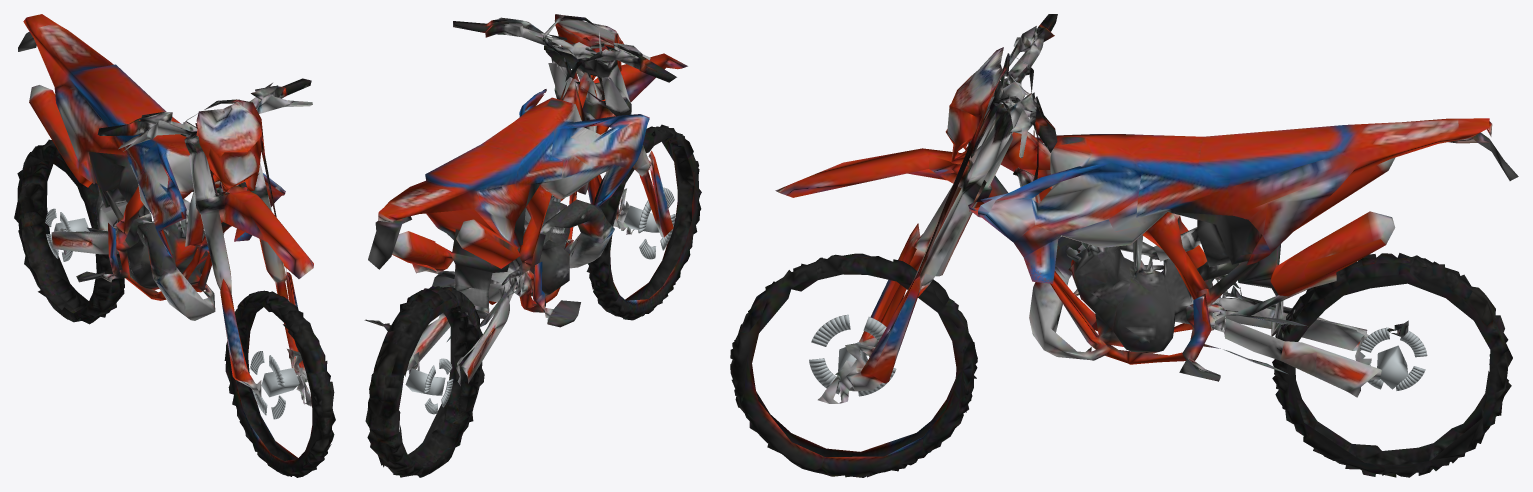
Rendered from parking-bike-mobile-nZKB2wij.glb.
3 renders of one model, left to right at view 1: azimuth 30°, elevation 25°; view 2: azimuth 150°, elevation 25°; view 3: azimuth 270°, elevation 25°, orthographic. The views are drawn at different scales.
Visible parts, largest first — view 1: SM_Tripo_Body, SM_Tripo_Fork, SM_Tripo_WheelFront, SM_Tripo_WheelRear, SM_Tripo_Handlebar, SM_Tripo_Swingarm_Chain, SM_Tripo_WheelFront_CleanSpokes, SM_Tripo_WheelRear_CleanSpokes; view 2: SM_Tripo_Body, SM_Tripo_WheelRear, SM_Tripo_WheelFront, SM_Tripo_Fork, SM_Tripo_Handlebar, SM_Tripo_Swingarm_Chain, SM_Tripo_WheelRear_CleanSpokes, SM_Tripo_WheelFront_CleanSpokes; view 3: SM_Tripo_Body, SM_Tripo_Fork, SM_Tripo_WheelRear, SM_Tripo_WheelFront, SM_Tripo_Swingarm_Chain, SM_Tripo_Handlebar, SM_Tripo_WheelRear_CleanSpokes, SM_Tripo_WheelFront_CleanSpokes.
Part boxes in pixels (x1=…): SM_Tripo_Body: x1=18, y1=14, x2=284, y2=320; SM_Tripo_Fork: x1=123, y1=83, x2=313, y2=406; SM_Tripo_WheelFront: x1=224, y1=290, x2=335, y2=477; SM_Tripo_WheelRear: x1=14, y1=139, x2=124, y2=324; SM_Tripo_Handlebar: x1=97, y1=78, x2=312, y2=159; SM_Tripo_Swingarm_Chain: x1=51, y1=204, x2=138, y2=254; SM_Tripo_WheelFront_CleanSpokes: x1=250, y1=351, x2=299, y2=419; SM_Tripo_WheelRear_CleanSpokes: x1=45, y1=208, x2=89, y2=261; SM_Tripo_Body: x1=368, y1=63, x2=649, y2=327; SM_Tripo_WheelRear: x1=365, y1=285, x2=487, y2=477; SM_Tripo_WheelFront: x1=586, y1=124, x2=701, y2=320; SM_Tripo_Fork: x1=499, y1=17, x2=687, y2=237; SM_Tripo_Handlebar: x1=453, y1=14, x2=676, y2=82; SM_Tripo_Swingarm_Chain: x1=364, y1=263, x2=521, y2=385; SM_Tripo_WheelRear_CleanSpokes: x1=405, y1=358, x2=453, y2=414; SM_Tripo_WheelFront_CleanSpokes: x1=624, y1=187, x2=675, y2=259; SM_Tripo_Body: x1=935, y1=118, x2=1518, y2=381; SM_Tripo_Fork: x1=775, y1=26, x2=1040, y2=403; SM_Tripo_WheelRear: x1=1272, y1=253, x2=1512, y2=477; SM_Tripo_WheelFront: x1=730, y1=253, x2=977, y2=477; SM_Tripo_Swingarm_Chain: x1=1215, y1=272, x2=1408, y2=397; SM_Tripo_Handlebar: x1=950, y1=14, x2=1057, y2=158; SM_Tripo_WheelRear_CleanSpokes: x1=1359, y1=327, x2=1427, y2=390; SM_Tripo_WheelFront_CleanSpokes: x1=809, y1=314, x2=896, y2=396.
Bounding box in the file's own units: 1.04 × 1.52 × 2.58.
2 materials, 1 textured.
